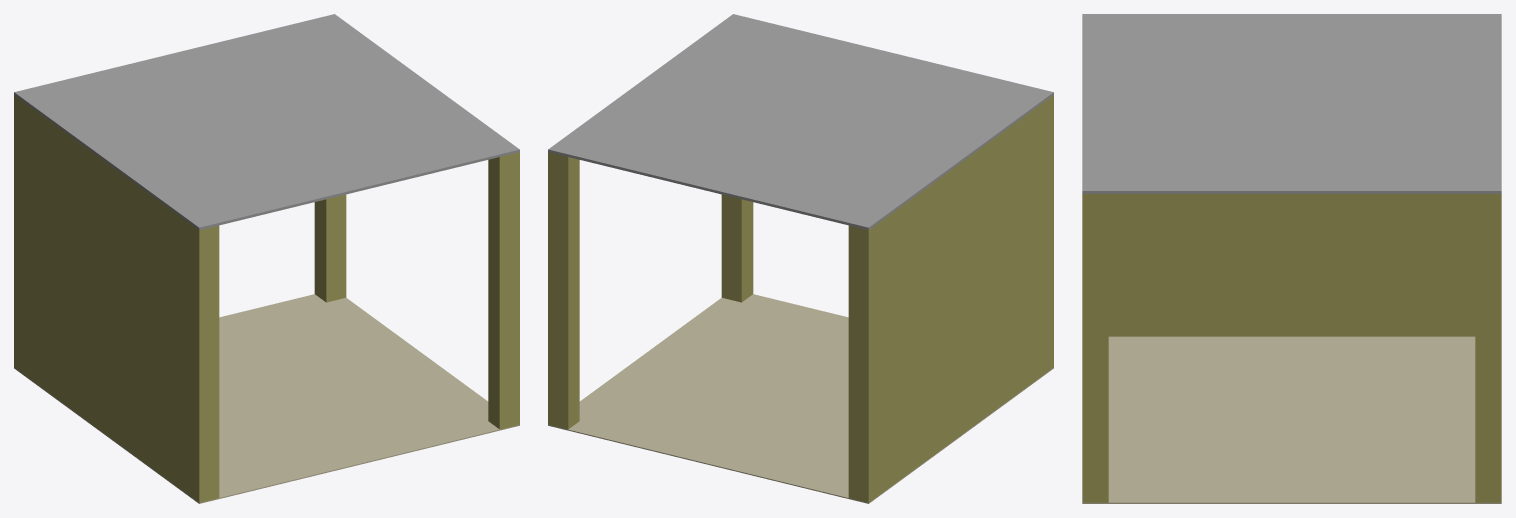
The model's file is tile8.gltf.
The picture shows the model from 3 angles, left to right: view 1: azimuth 30°, elevation 25°; view 2: azimuth 150°, elevation 25°; view 3: azimuth 270°, elevation 25°; orthographic projection. The views are drawn at different scales.
Parts seen in each view (by area): view 1: cube (×5); view 2: cube (×5); view 3: cube (×5).
Part boxes in pixels (x1=…): cube (×5): x1=14, y1=14, x2=519, y2=503; cube (×5): x1=548, y1=14, x2=1053, y2=503; cube (×5): x1=1082, y1=14, x2=1501, y2=503.
Size of the model in its own units: 1 by 0.8234 by 1.
Materials: 1 (1 with a texture image).
